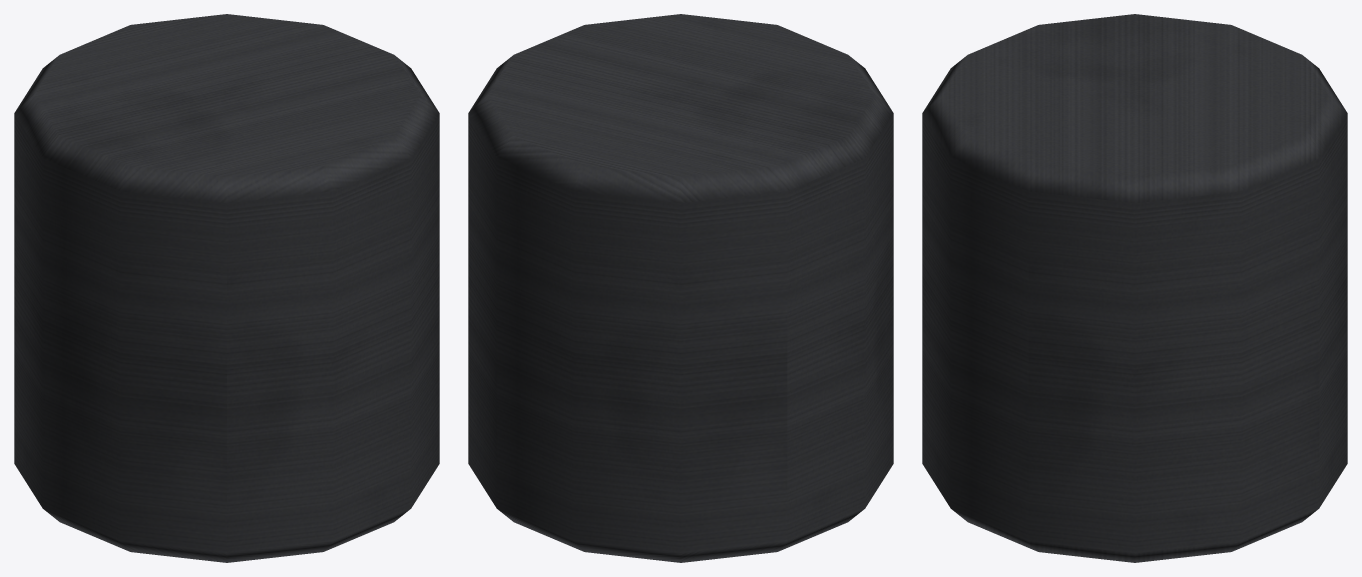
3 renders of one model, left to right at view 1: azimuth 30°, elevation 25°; view 2: azimuth 150°, elevation 25°; view 3: azimuth 270°, elevation 25°, orthographic.
Parts seen in each view (by area): view 1: R4B_Cylinder_LOD1; view 2: R4B_Cylinder_LOD1; view 3: R4B_Cylinder_LOD1.
Part boxes in pixels (bbox=[...]): R4B_Cylinder_LOD1: bbox=[14, 14, 439, 562]; R4B_Cylinder_LOD1: bbox=[468, 14, 893, 562]; R4B_Cylinder_LOD1: bbox=[922, 14, 1347, 562].
Size of the model in its own units: 0.52 by 0.52 by 0.52.
Materials: 1 (1 with a texture image).
